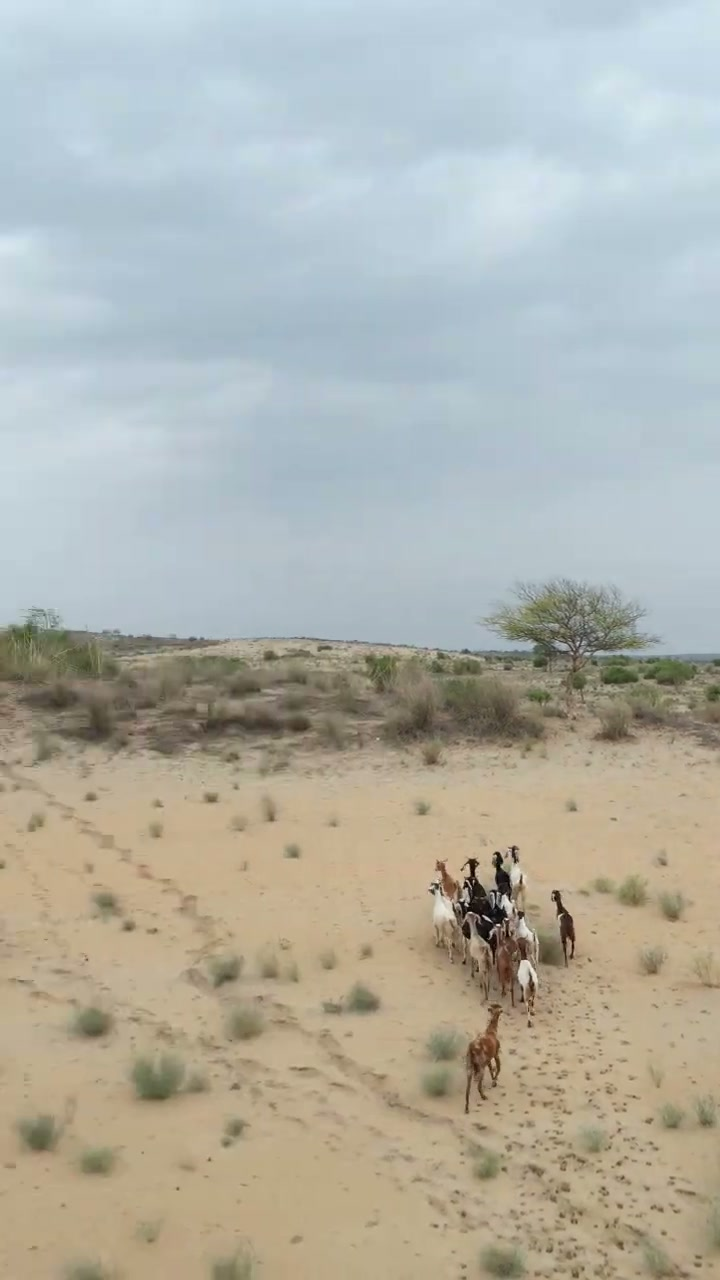animal_footprint: (430, 956, 679, 1256)
